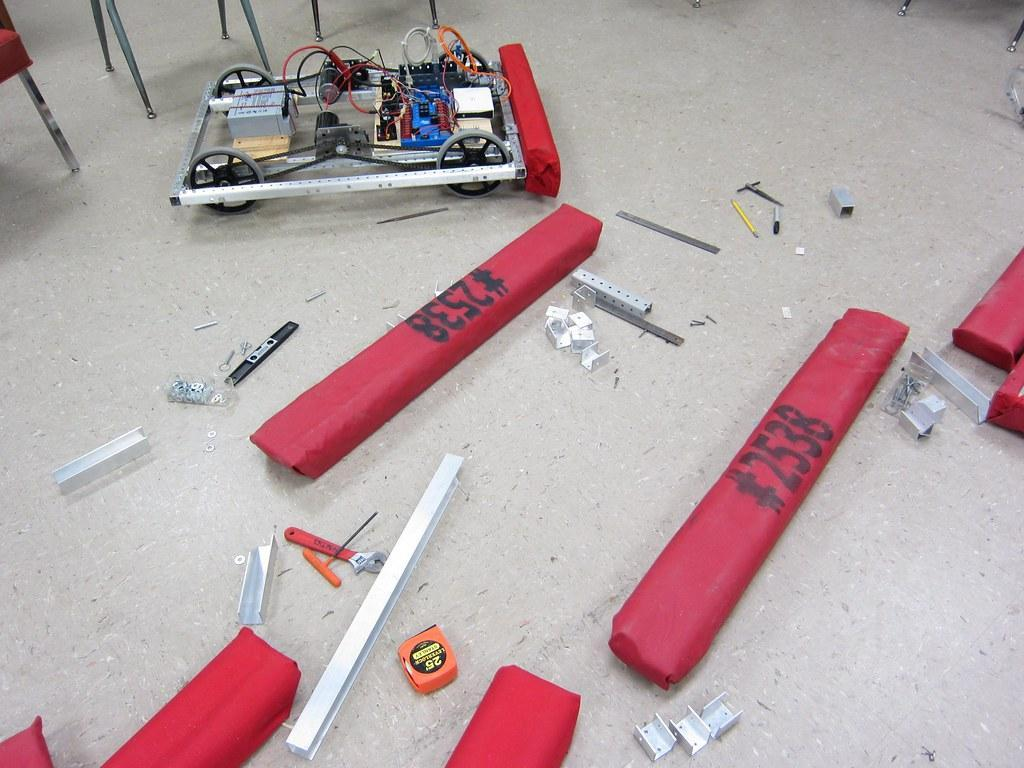robot: (159, 20, 574, 204)
